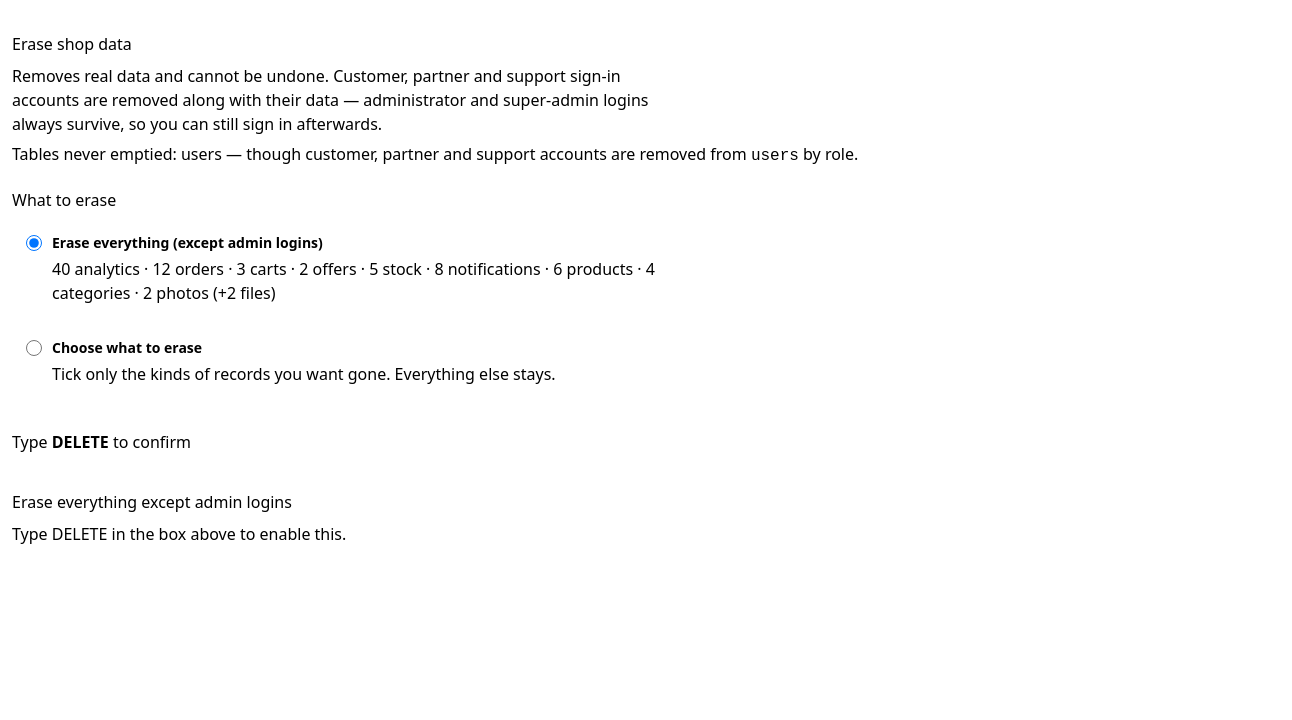
Test: DataResetPanel — choose what to erase (#71) › lists every group with its server label and count; empty groups are disabled
Expected: the heading "Erase shop data" is shown, left=12, top=33, right=132, bottom=55
Click the radio button labelled "Choose what to erase" at (34, 348), box left=26, top=340, right=42, bottom=356
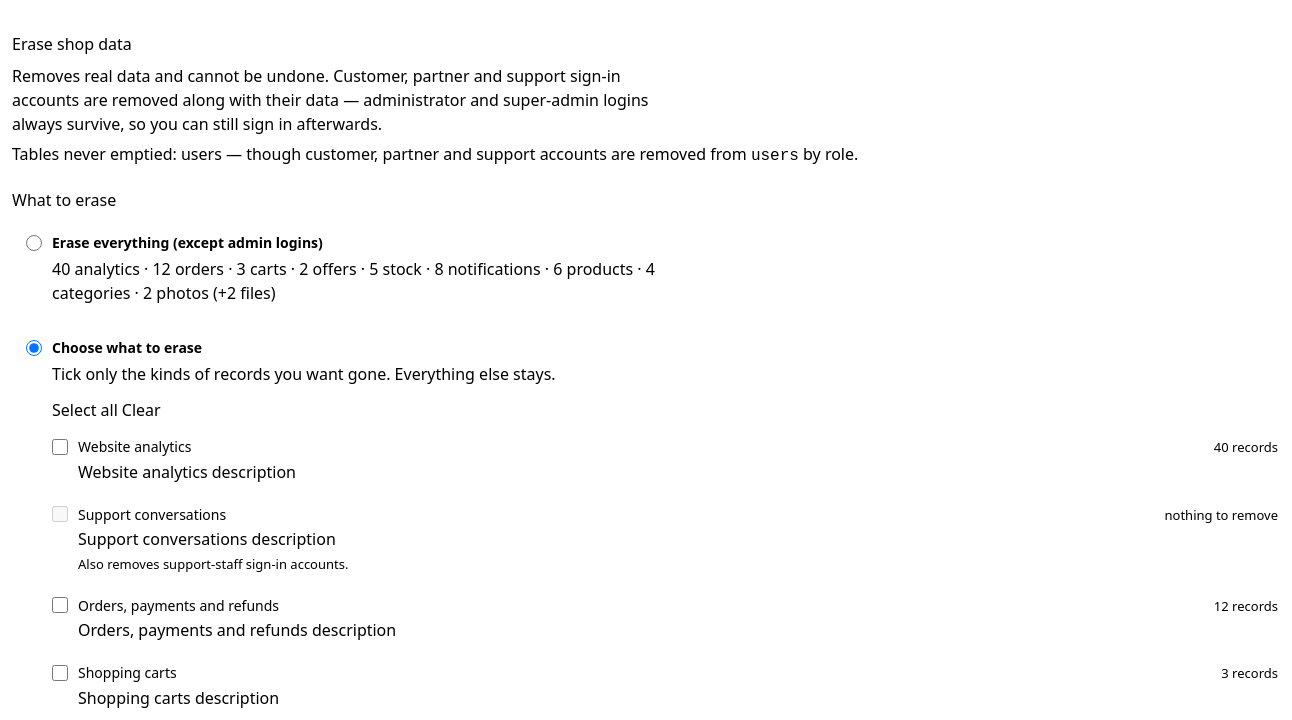
Result: the checkbox labelled "Orders, payments and refunds 12 records" is enabled at left=52, top=597, right=68, bottom=613
Result: the list item with test id "reset-group-sales" shows "12 records" at left=1214, top=596, right=1278, bottom=614
Result: the checkbox labelled "Support conversations nothing to remove" is disabled at left=52, top=506, right=68, bottom=522
